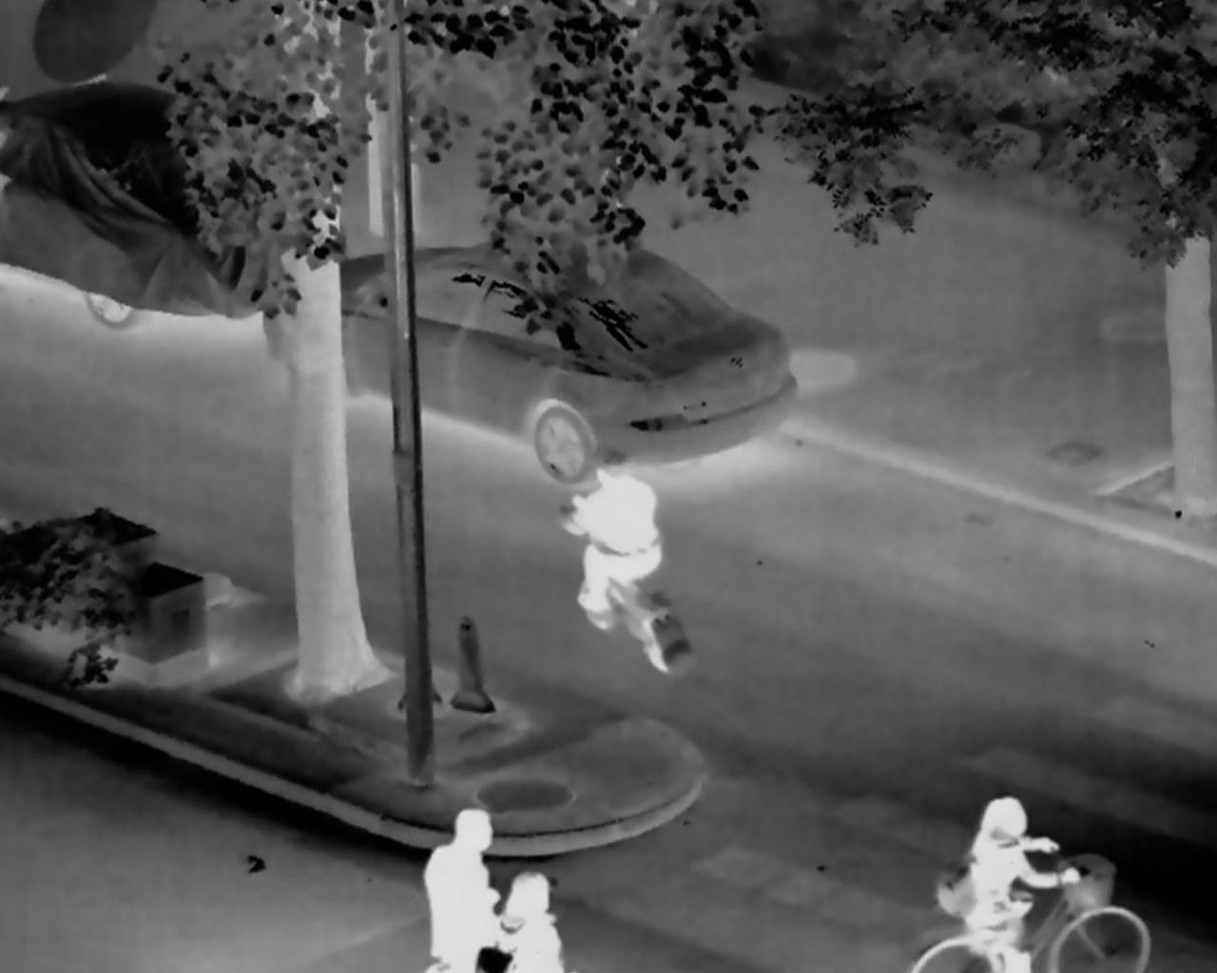person: (951, 792, 1078, 965), (570, 451, 664, 619), (425, 808, 504, 973), (491, 870, 565, 973)
